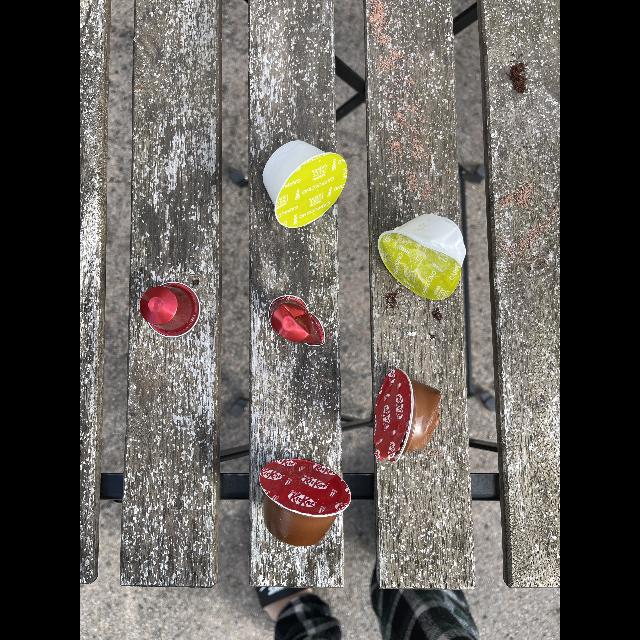damaged_capsule: (377, 208, 478, 306), (370, 357, 448, 467), (260, 292, 332, 356)
intact_capsule: (254, 132, 354, 234), (256, 455, 356, 551), (135, 278, 211, 344)
